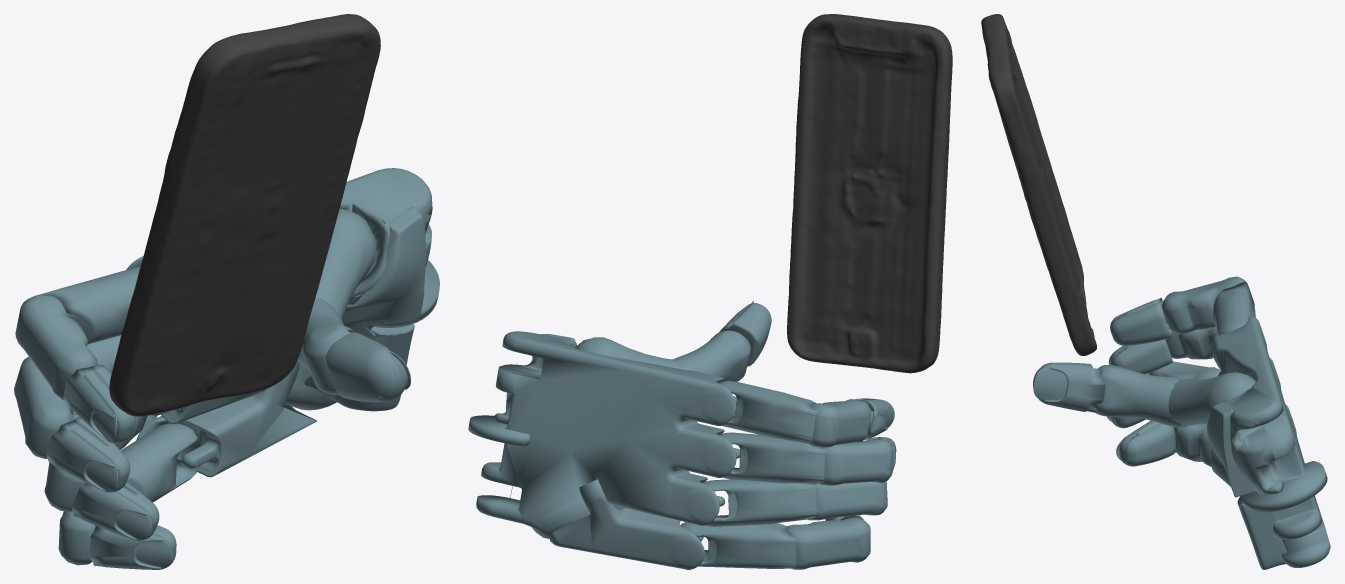
The picture shows the model from 3 angles, left to right: view 1: azimuth 30°, elevation 25°; view 2: azimuth 150°, elevation 25°; view 3: azimuth 270°, elevation 25°; orthographic projection. The views are drawn at different scales.
Visible parts, largest first — view 1: world; view 2: world; view 3: world.
Part boxes in pixels (x1,y1,x2,y2): world: [14, 14, 439, 569]; world: [468, 14, 952, 569]; world: [981, 14, 1330, 569].
Size of the model in its own units: 0.1789 by 0.2173 by 0.1551.
1 material, 1 textured.
